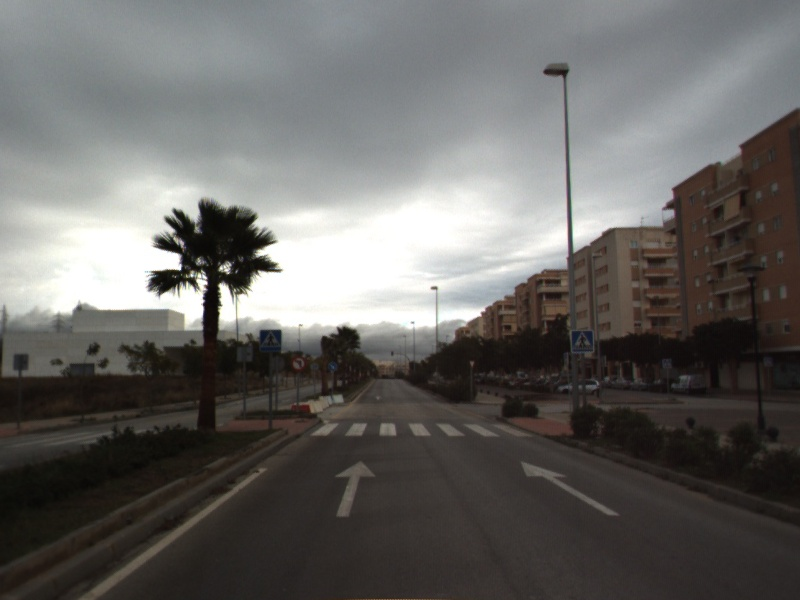STRAIGHT: (519, 459, 622, 518), (333, 458, 378, 519)
